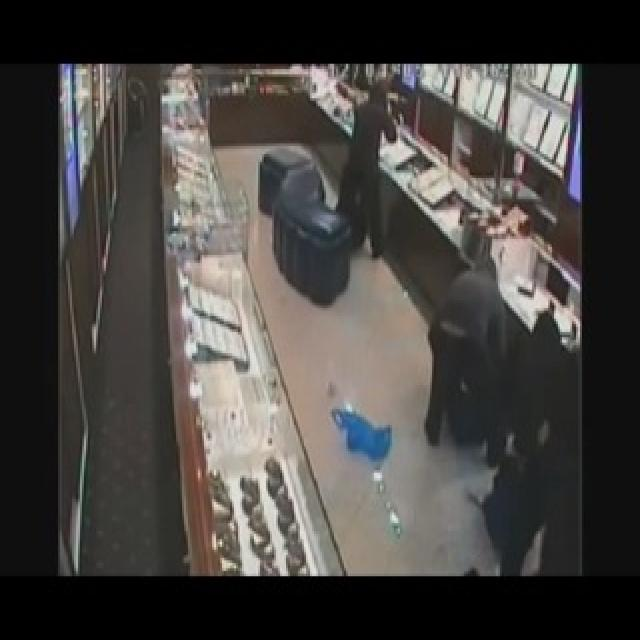thief: (414, 250, 508, 455), (512, 308, 579, 578), (331, 73, 396, 264)
